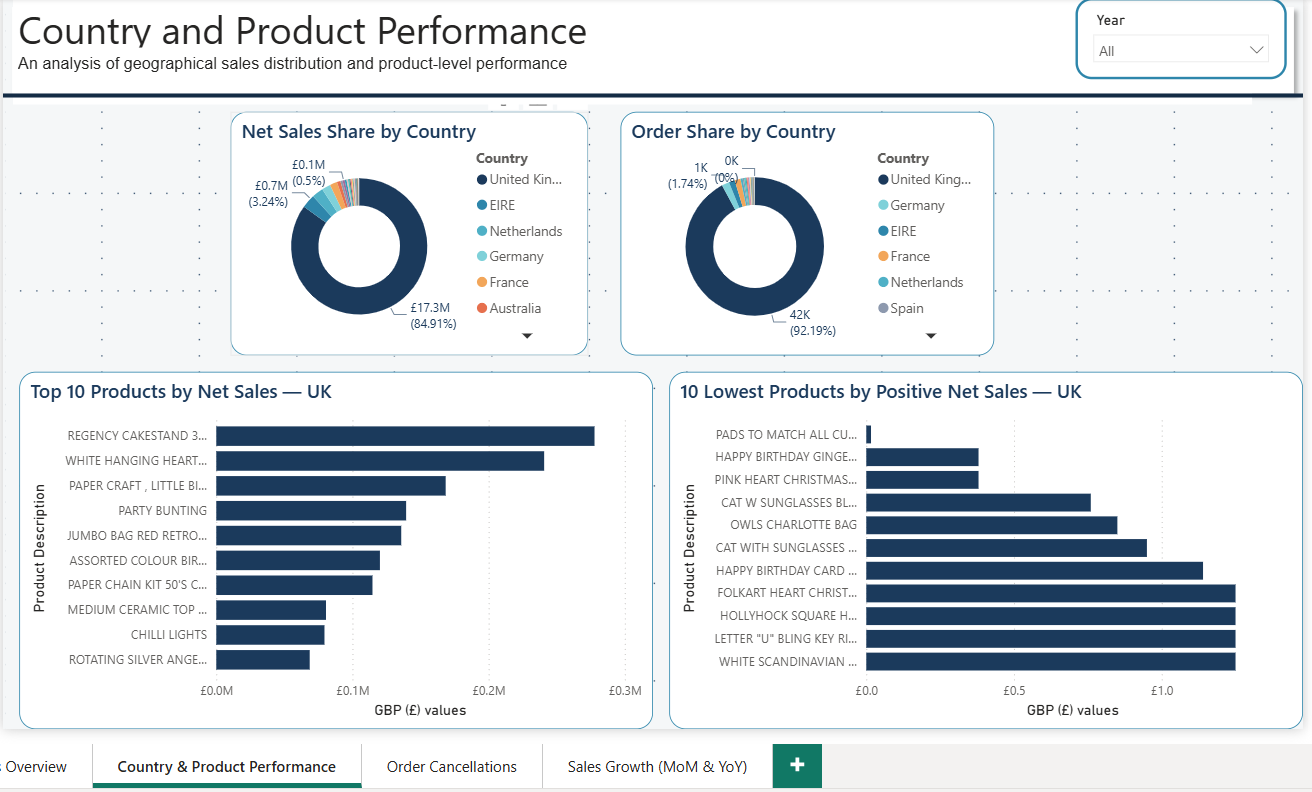

This screenshot's page, from the dashboard's own definition file:
{"tool":"powerbi","page":{"name":"Country & Product Performance","canvas":[1280,720],"ordinal":1},"visuals":[{"type":"donutChart","title":"Net Sales Share by Country","fields":{"Y":["cleaned_excl_cancelled_orders.net_sales"],"Category":["cleaned_excl_cancelled_orders.country"]},"box":[224,112,352,240],"z":0},{"type":"donutChart","title":"Order Share by Country","fields":{"Category":["cleaned_excl_cancelled_orders.country"],"Y":["cleaned_excl_cancelled_orders.total_number_of_orders"]},"box":[608,112,368,240],"z":1000},{"type":"clusteredBarChart","title":"Top 10 Products by Net Sales — UK","fields":{"Y":["cleaned_excl_cancelled_orders.net_sales"],"Category":["cleaned_excl_cancelled_orders.description"]},"box":[16,368,624,352],"z":2000},{"type":"clusteredBarChart","title":"10 Lowest Products by Positive Net Sales — UK","fields":{"Category":["cleaned_excl_cancelled_orders.description"],"Y":["cleaned_excl_cancelled_orders.positive_net_sales"]},"box":[656,368,624,352],"z":3000},{"type":"shape","box":[0,0,1280,103],"z":4000},{"type":"textbox","box":[10,50,1220,54],"z":5000},{"type":"textbox","box":[10,0,1220,54.1],"z":6000},{"type":"slicer","fields":{"Values":["cleaned_excl_cancelled_orders.year.Variation.Date Hierarchy.Year"]},"box":[1056,0,208,80],"z":7000},{"type":"shape","box":[0,64,1280,64],"z":8000}]}

Visuals, with their boxes on the page's 1280x720 design canvas (x1, y1, x2, y2). These are canvas units, not pixel positions in the 1312x792 screenshot, which may show the page scaled, cropped or inside an application window:
"Net Sales Share by Country" donutChart: x1=224, y1=112, x2=576, y2=352
"Order Share by Country" donutChart: x1=608, y1=112, x2=976, y2=352
"Top 10 Products by Net Sales — UK" clusteredBarChart: x1=16, y1=368, x2=640, y2=720
"10 Lowest Products by Positive Net Sales — UK" clusteredBarChart: x1=656, y1=368, x2=1280, y2=720
shape: x1=0, y1=0, x2=1280, y2=103
textbox: x1=10, y1=50, x2=1230, y2=104
textbox: x1=10, y1=0, x2=1230, y2=54
slicer - cleaned_excl_cancelled_orders.year.Variation.Date Hierarchy.Year: x1=1056, y1=0, x2=1264, y2=80
shape: x1=0, y1=64, x2=1280, y2=128
